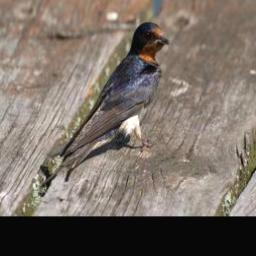Swallow: (39, 19, 170, 190)
